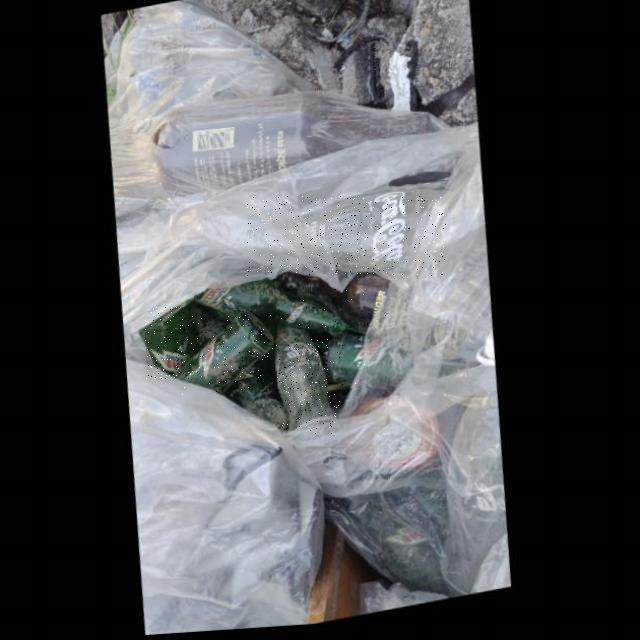glass: (248, 196, 446, 277), (195, 281, 350, 337), (177, 315, 277, 396), (280, 275, 393, 339), (278, 325, 341, 435), (146, 307, 195, 379), (328, 338, 368, 388)
